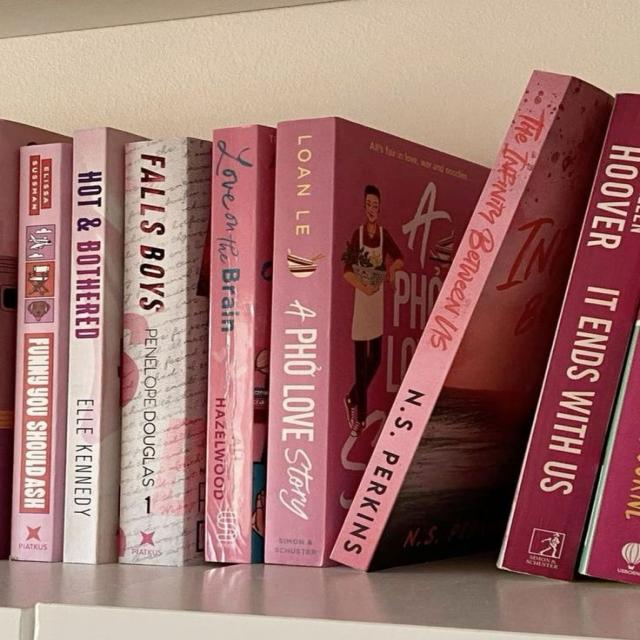book: (329, 70, 575, 575), (499, 94, 640, 579), (118, 138, 210, 566), (63, 128, 146, 564), (261, 121, 338, 563), (203, 125, 276, 564), (10, 144, 71, 561), (587, 330, 640, 584)
